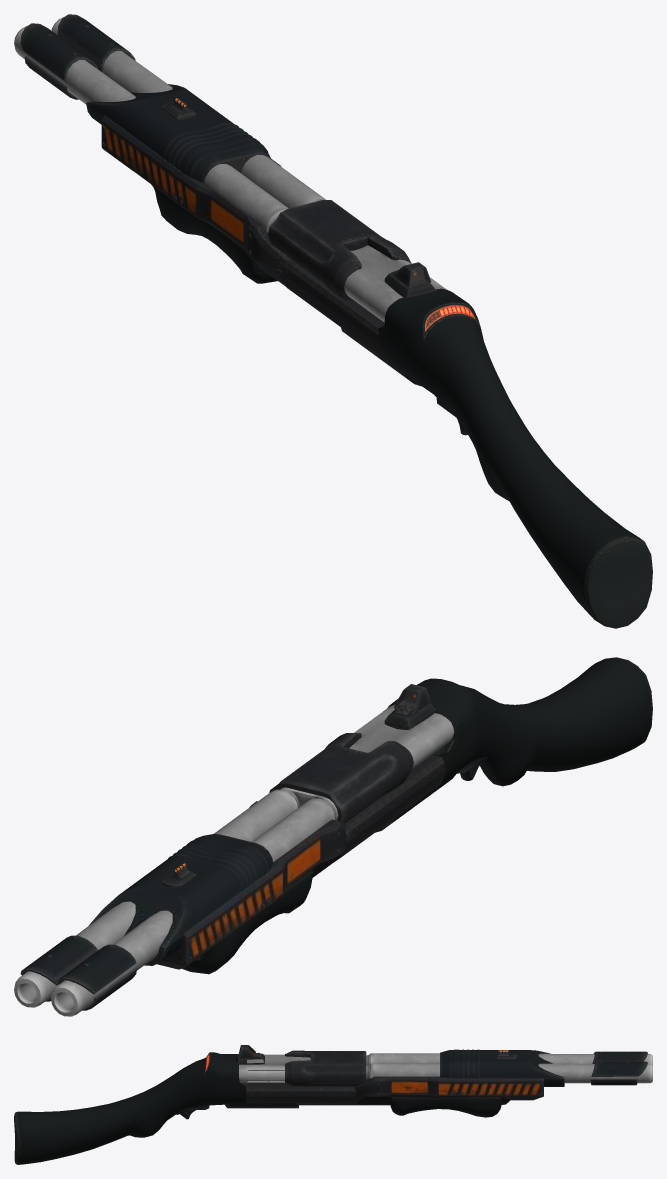
Rendered from shotgun.glb.
3 views of the same model, one above another, from view 1: azimuth 30°, elevation 25°; view 2: azimuth 150°, elevation 25°; view 3: azimuth 270°, elevation 25° (orthographic). The views are drawn at different scales.
Visible parts, largest first — view 1: shotgun_01_Material #187_0; view 2: shotgun_01_Material #187_0; view 3: shotgun_01_Material #187_0.
Boxes of the visible parts, left/top/right/bottom form: shotgun_01_Material #187_0: left=14, top=14, right=652, bottom=628; shotgun_01_Material #187_0: left=14, top=657, right=652, bottom=1016; shotgun_01_Material #187_0: left=14, top=1045, right=652, bottom=1164.
Size of the model in its own units: 0.1048 by 0.2312 by 1.15.
3 materials, 3 textured.
